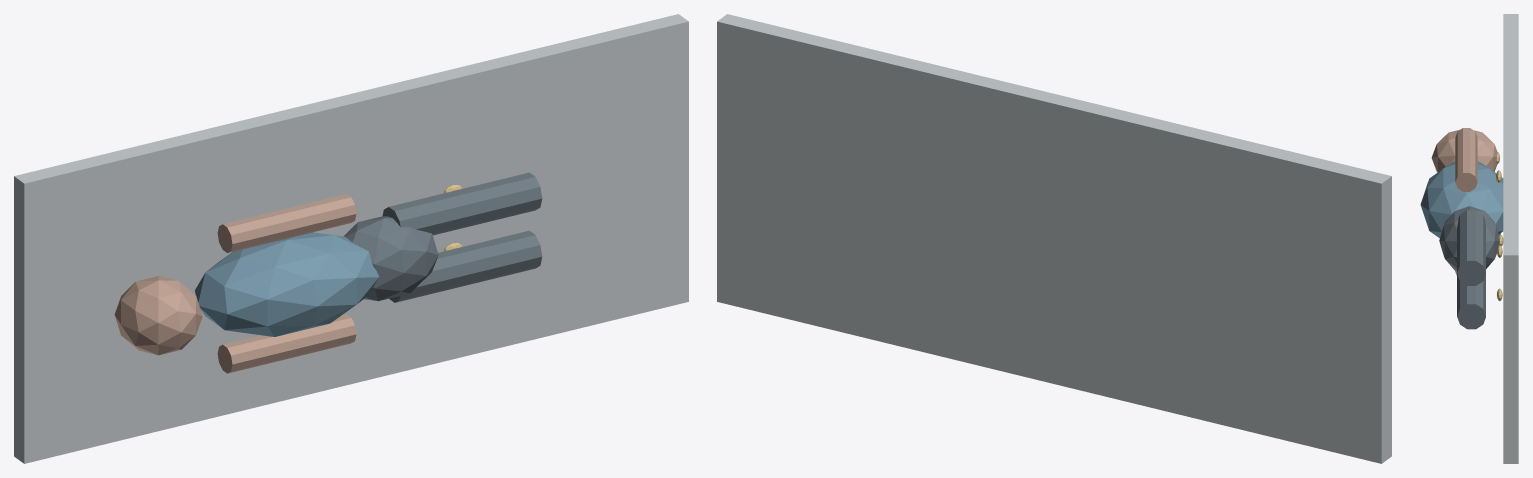
Rendered from dorsal-low.glb.
3 renders of one model, left to right at view 1: azimuth 30°, elevation 25°; view 2: azimuth 150°, elevation 25°; view 3: azimuth 270°, elevation 25°, orthographic. The views are drawn at different scales.
Parts seen in each view (by area): view 1: reference_surface, torso, right_leg, head, pelvis, left_leg, right_arm, left_arm; view 2: reference_surface; view 3: reference_surface, torso, right_leg, pelvis, right_arm, head, left_leg.
Part boxes in pixels (x1=…): reference_surface: x1=14, y1=14, x2=688, y2=463; torso: x1=195, y1=232, x2=378, y2=336; right_leg: x1=382, y1=172, x2=542, y2=235; head: x1=114, y1=276, x2=202, y2=355; pelvis: x1=343, y1=216, x2=438, y2=301; left_leg: x1=389, y1=230, x2=542, y2=302; right_arm: x1=217, y1=194, x2=356, y2=252; left_arm: x1=217, y1=314, x2=356, y2=373; reference_surface: x1=717, y1=14, x2=1391, y2=463; reference_surface: x1=1503, y1=14, x2=1518, y2=463; torso: x1=1420, y1=162, x2=1503, y2=238; right_leg: x1=1457, y1=210, x2=1485, y2=285; pelvis: x1=1439, y1=206, x2=1499, y2=270; right_arm: x1=1455, y1=128, x2=1477, y2=191; head: x1=1431, y1=130, x2=1497, y2=172; left_leg: x1=1457, y1=274, x2=1485, y2=329.
Size of the model in its own units: 6.7 by 2.7 by 1.15.
